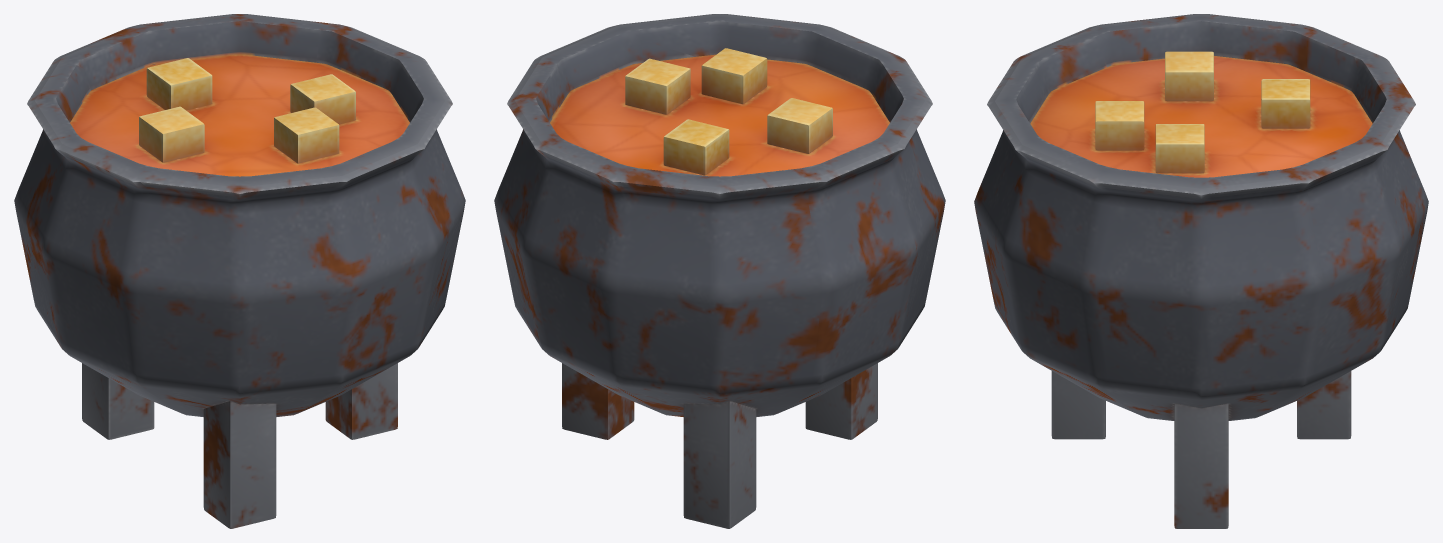
The model's file is Volcan_Chaudron.fbx.
3 views of the same model, side by side, from view 1: azimuth 30°, elevation 25°; view 2: azimuth 150°, elevation 25°; view 3: azimuth 270°, elevation 25° (orthographic).
Parts seen in each view (by area): view 1: Volcan_Chaudron; view 2: Volcan_Chaudron; view 3: Volcan_Chaudron.
Part boxes in pixels (x1,y1,x2,y2): Volcan_Chaudron: (14,14,465,528); Volcan_Chaudron: (494,14,945,528); Volcan_Chaudron: (974,14,1428,528).
Bounding box in the file's own units: 418 × 365 × 418.
Materials: 1 (1 with a texture image).
